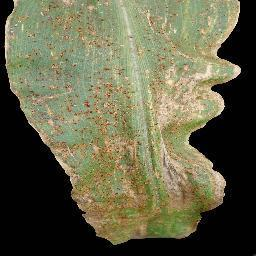Corn_Common_Rust: (5, 0, 246, 248)
